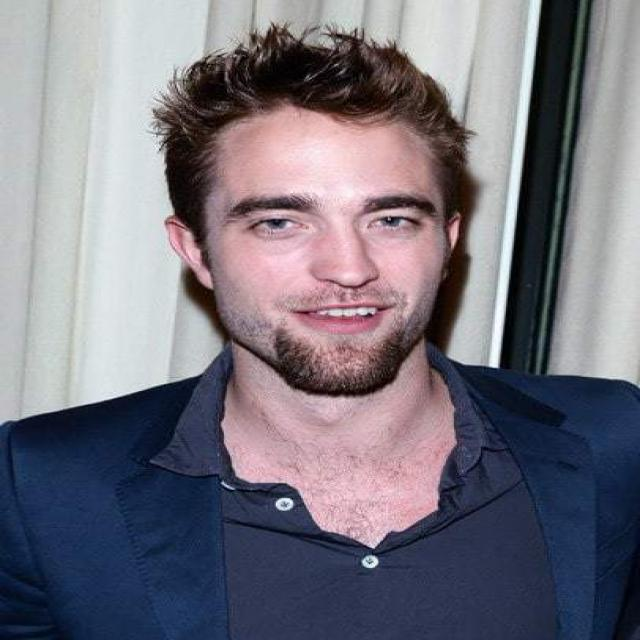beard: (259, 313, 429, 397)
hair: (153, 24, 471, 237)
